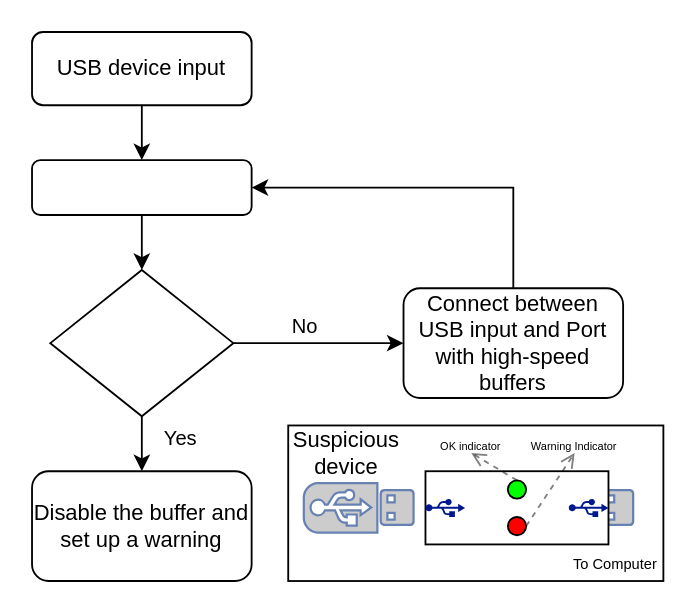
Some shapes in this 695 by 613 pixel diagram are drawn without their labels. Here are the shapes that lost their labels. From the top down, the centre of each, then its label:
the point at 141,186: Detect HID inputs
the point at 140,342: Detect any HID input?
